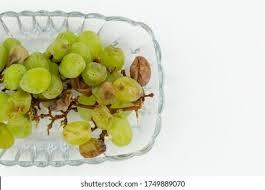Grape Rotten: (0, 30, 153, 158)
